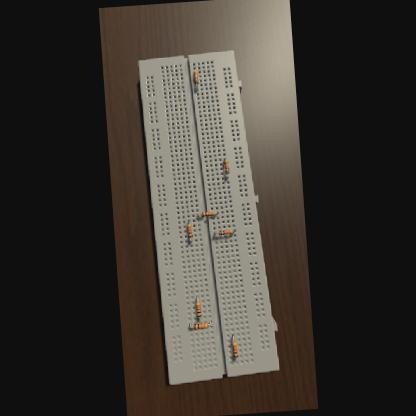breadboard: (137, 48, 281, 385)
resistor: (232, 340, 238, 357), (195, 301, 201, 317), (186, 223, 192, 238), (193, 322, 207, 328), (193, 70, 199, 84), (200, 210, 214, 216), (218, 229, 232, 235), (223, 160, 229, 173)
wire: (232, 334, 234, 341), (196, 295, 198, 301), (206, 321, 210, 324), (226, 173, 228, 178), (190, 323, 192, 326), (188, 222, 190, 224), (197, 214, 200, 215), (214, 232, 217, 233), (199, 317, 200, 319), (214, 212, 216, 213), (235, 358, 236, 360), (232, 230, 234, 231), (224, 158, 225, 159), (190, 238, 190, 241)
